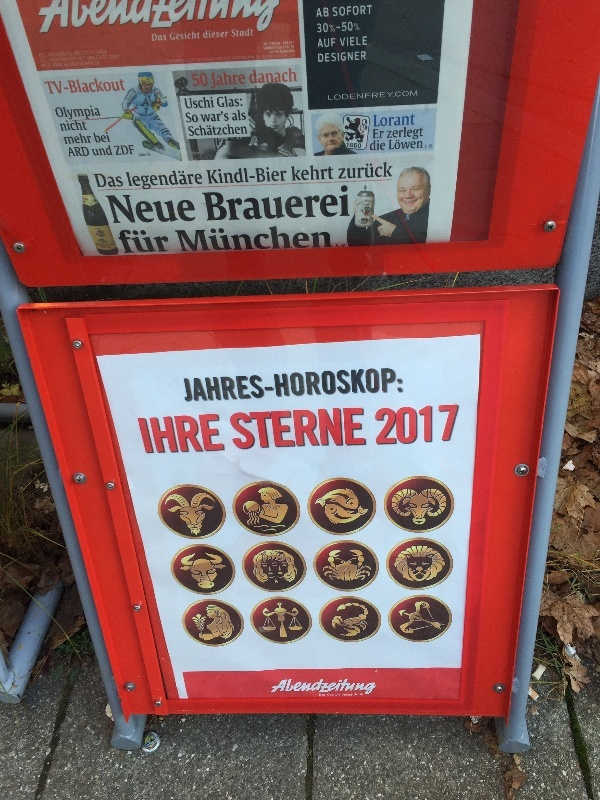text: (241, 407, 256, 451), (257, 407, 272, 451), (273, 407, 288, 451), (289, 407, 304, 451), (305, 407, 320, 451), (321, 407, 336, 451), (337, 407, 352, 451), (385, 404, 400, 446), (401, 404, 416, 446), (417, 404, 432, 446), (433, 404, 448, 446), (145, 414, 160, 455), (161, 414, 176, 455), (177, 414, 192, 455), (193, 414, 208, 455), (209, 414, 224, 455), (353, 407, 366, 451), (49, 1, 64, 39), (65, 1, 80, 39), (81, 1, 96, 39), (97, 1, 112, 39), (113, 1, 128, 39), (129, 1, 144, 39), (145, 1, 160, 39), (161, 1, 176, 39), (177, 1, 192, 39), (193, 1, 208, 39), (209, 1, 224, 39), (225, 1, 240, 39), (241, 1, 256, 39), (257, 1, 272, 39), (209, 185, 224, 223), (225, 185, 240, 223), (241, 185, 256, 223), (257, 185, 272, 223), (273, 185, 288, 223), (289, 185, 304, 223), (305, 185, 320, 223), (321, 185, 336, 223), (193, 367, 208, 403), (209, 367, 224, 403), (225, 367, 240, 403), (241, 367, 256, 403), (257, 367, 272, 403), (273, 367, 288, 403), (289, 367, 304, 403), (305, 367, 320, 403), (321, 367, 336, 403), (337, 367, 352, 403), (353, 367, 368, 403), (369, 367, 384, 403), (385, 367, 400, 403), (337, 185, 350, 223), (177, 223, 192, 255), (193, 223, 208, 255), (209, 223, 224, 255), (225, 223, 240, 255), (241, 223, 256, 255), (257, 223, 272, 255), (273, 223, 288, 255), (289, 223, 304, 255), (305, 223, 320, 255), (230, 407, 240, 451), (113, 195, 128, 224), (129, 195, 144, 224), (145, 195, 160, 224), (161, 195, 176, 224), (177, 195, 192, 224), (449, 404, 459, 446), (129, 229, 144, 256), (145, 229, 160, 256), (321, 223, 333, 255), (38, 1, 48, 39), (375, 404, 384, 446), (49, 49, 64, 71), (65, 49, 80, 71), (81, 49, 96, 71), (97, 49, 112, 71), (129, 171, 144, 192), (145, 171, 160, 192), (161, 171, 176, 192), (177, 171, 192, 192), (273, 1, 281, 39), (225, 71, 240, 91), (117, 229, 128, 256), (184, 367, 192, 403), (209, 166, 224, 185), (225, 166, 240, 185), (241, 166, 256, 185), (257, 166, 272, 185), (353, 161, 368, 180), (369, 161, 384, 180), (273, 166, 287, 185), (338, 161, 352, 180), (211, 71, 224, 91), (401, 124, 416, 141), (49, 78, 64, 95), (65, 78, 80, 95), (81, 78, 96, 95), (97, 78, 112, 95), (305, 165, 320, 182), (257, 68, 272, 85), (273, 68, 288, 85), (289, 678, 304, 695), (305, 678, 320, 695), (321, 678, 336, 695), (337, 678, 352, 695), (353, 678, 368, 695), (273, 39, 288, 56), (138, 414, 144, 455), (65, 105, 80, 121), (81, 105, 96, 121), (193, 72, 208, 88), (202, 185, 208, 223), (113, 78, 126, 95), (291, 165, 304, 182), (321, 165, 334, 182), (161, 229, 169, 256), (337, 4, 352, 18), (353, 4, 368, 18), (385, 114, 400, 128), (401, 114, 416, 128), (97, 174, 112, 188), (193, 171, 203, 192), (193, 123, 208, 137), (209, 123, 224, 137), (225, 123, 240, 137), (388, 124, 400, 141), (105, 195, 112, 224), (39, 49, 48, 71), (97, 145, 113, 157), (97, 131, 111, 144), (321, 22, 336, 34), (337, 22, 352, 34), (353, 36, 368, 48), (321, 51, 336, 63), (337, 51, 352, 63), (337, 90, 352, 102), (353, 90, 368, 102), (369, 90, 384, 102), (385, 90, 400, 102), (401, 90, 416, 102), (401, 139, 416, 151), (65, 133, 80, 145), (193, 97, 208, 109), (209, 111, 224, 123), (113, 49, 121, 71), (370, 139, 384, 151), (321, 38, 336, 49), (65, 121, 80, 132), (225, 97, 240, 108), (54, 105, 64, 121), (339, 36, 352, 48), (353, 51, 366, 63), (114, 145, 128, 156), (113, 174, 124, 188), (385, 161, 393, 180), (177, 31, 192, 41), (177, 54, 192, 64), (193, 54, 208, 64), (209, 54, 224, 64), (225, 54, 240, 64), (241, 54, 256, 64), (257, 54, 272, 64), (273, 54, 288, 64), (374, 114, 384, 128), (289, 68, 297, 85), (264, 39, 272, 56), (373, 128, 384, 140), (389, 139, 400, 151), (69, 146, 80, 158), (209, 31, 224, 39), (81, 133, 91, 145), (417, 124, 424, 141), (249, 68, 256, 85), (281, 678, 288, 695), (369, 678, 376, 695), (289, 39, 296, 56), (241, 29, 254, 38), (81, 146, 90, 158), (241, 71, 246, 91), (241, 123, 248, 137), (328, 90, 336, 102), (184, 97, 192, 109), (200, 111, 208, 123), (167, 54, 176, 64), (321, 8, 329, 19), (232, 110, 240, 121), (193, 195, 196, 224), (43, 78, 48, 95), (353, 22, 360, 34), (193, 31, 201, 41), (97, 105, 102, 121), (289, 54, 297, 64), (81, 121, 88, 132), (217, 97, 224, 108), (417, 139, 423, 151), (401, 367, 403, 403), (152, 33, 160, 42), (232, 29, 240, 38), (209, 97, 215, 109), (241, 110, 247, 121), (174, 223, 176, 255), (353, 142, 362, 149), (125, 171, 128, 192), (170, 31, 176, 41), (91, 145, 96, 157), (186, 113, 192, 123), (193, 113, 199, 123), (188, 123, 192, 137), (59, 121, 64, 132), (129, 145, 134, 156), (161, 33, 167, 42), (148, 153, 160, 157), (225, 111, 229, 123), (333, 4, 336, 18), (369, 4, 372, 18), (354, 694, 368, 697), (225, 414, 226, 455), (93, 131, 96, 144), (206, 166, 208, 185), (317, 22, 320, 34), (327, 693, 336, 697), (425, 144, 432, 149), (347, 142, 352, 149), (204, 31, 208, 39), (225, 31, 229, 39), (342, 694, 352, 697), (94, 174, 96, 188), (139, 153, 144, 158), (318, 51, 320, 63), (318, 8, 320, 19), (241, 97, 243, 108), (337, 693, 341, 697), (429, 144, 432, 149), (321, 694, 326, 697), (417, 90, 418, 102), (385, 139, 386, 151), (63, 133, 64, 145), (319, 38, 320, 49), (145, 153, 146, 158)
